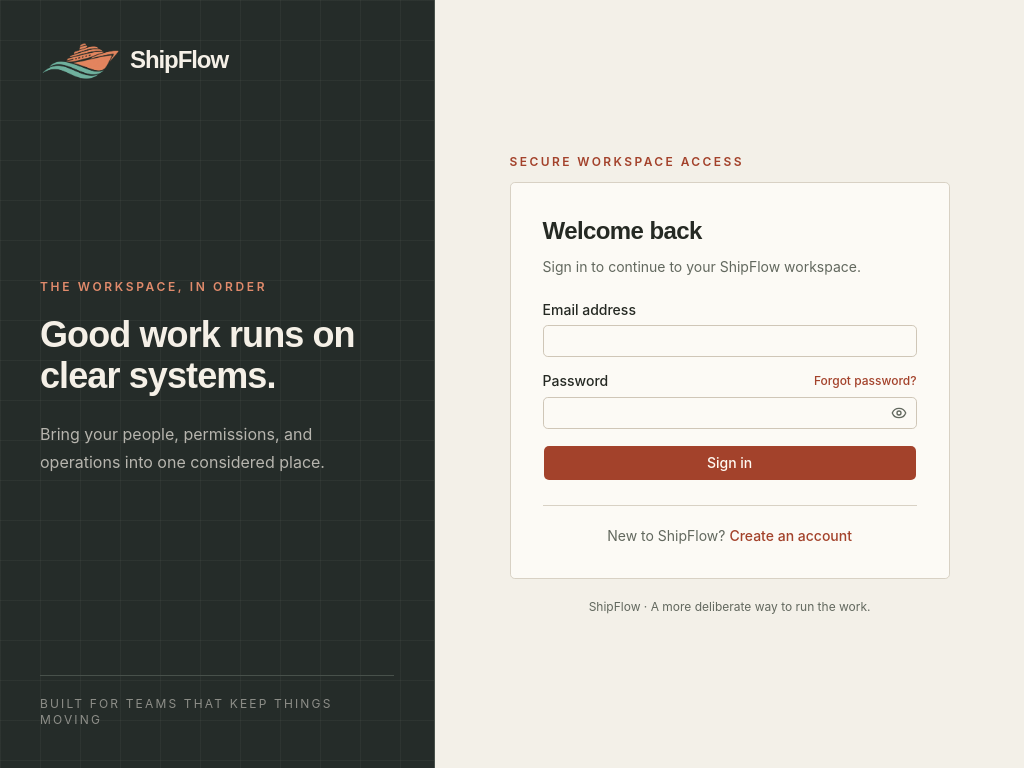
Scenario: LoginPage › shows a throttling message
In the field labelled "Email address": (730, 340) [543,324,917,356], type "user@example.com"
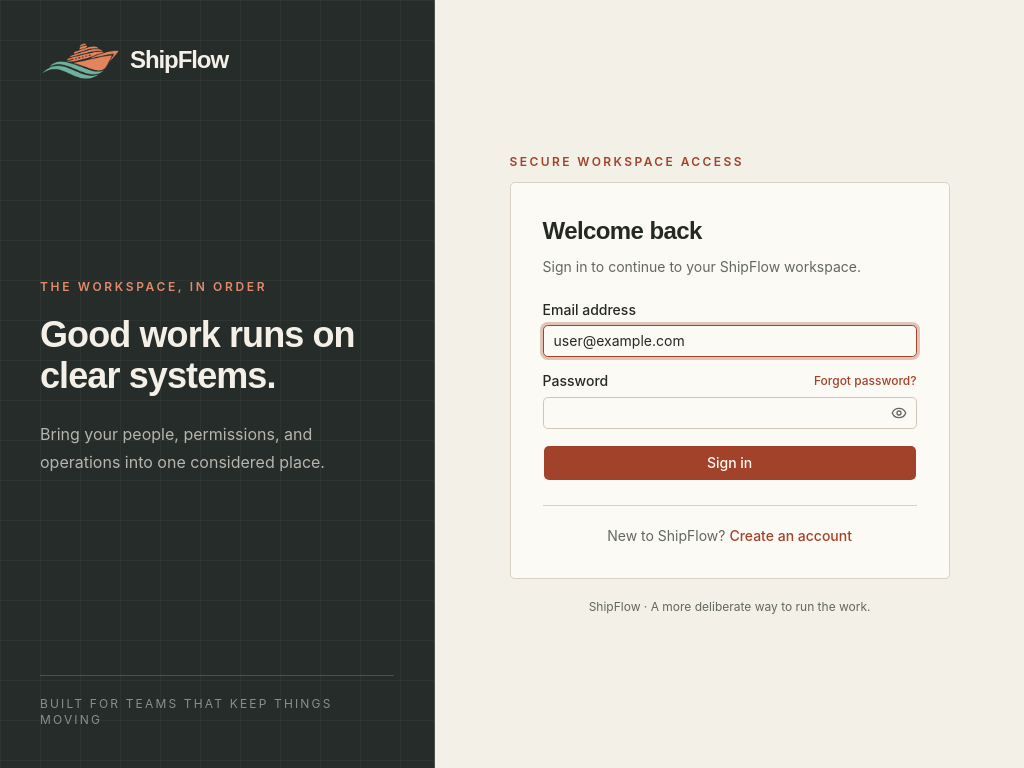
In the password field labelled "Password": (730, 412) [543,396,917,428], type "wrong password"
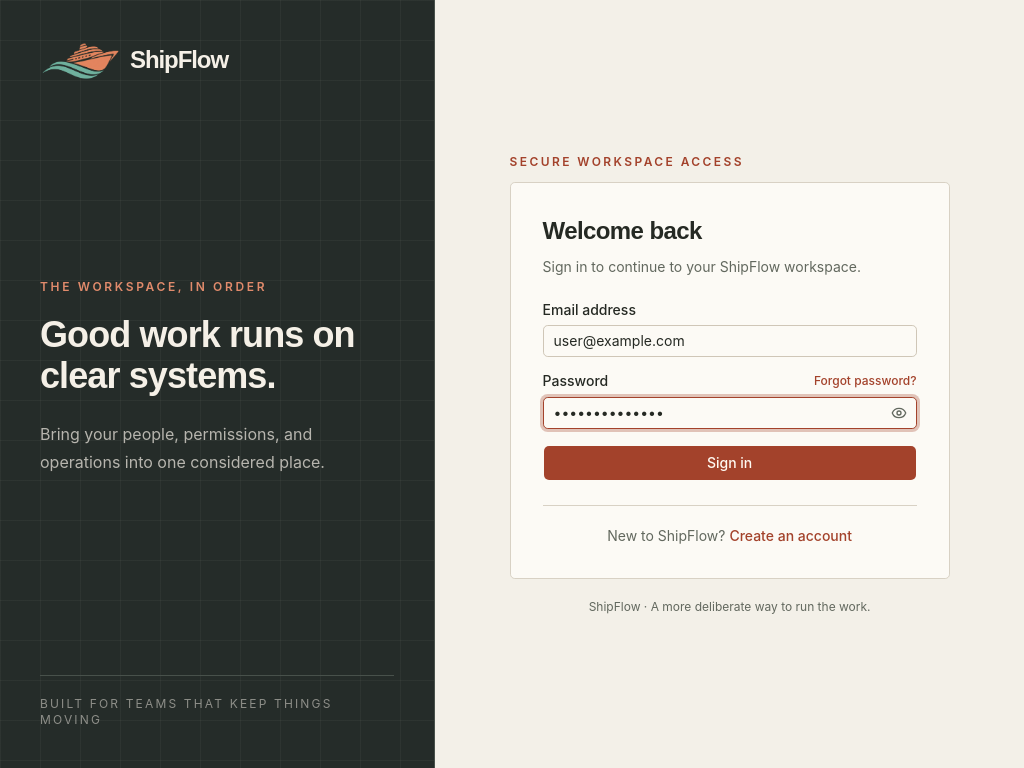
Click the button "Sign in": (730, 462) [543,444,917,480]
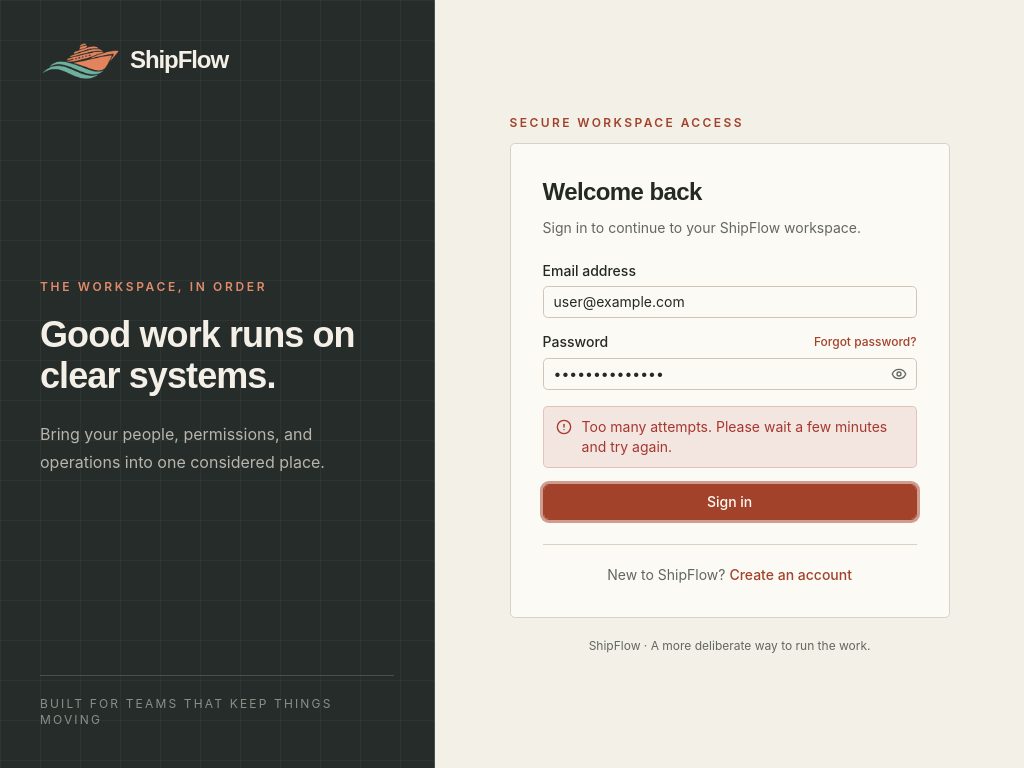
Now the text "Too many attempts. Please wait a few minutes and try again." is shown, box [582,416,904,456]
